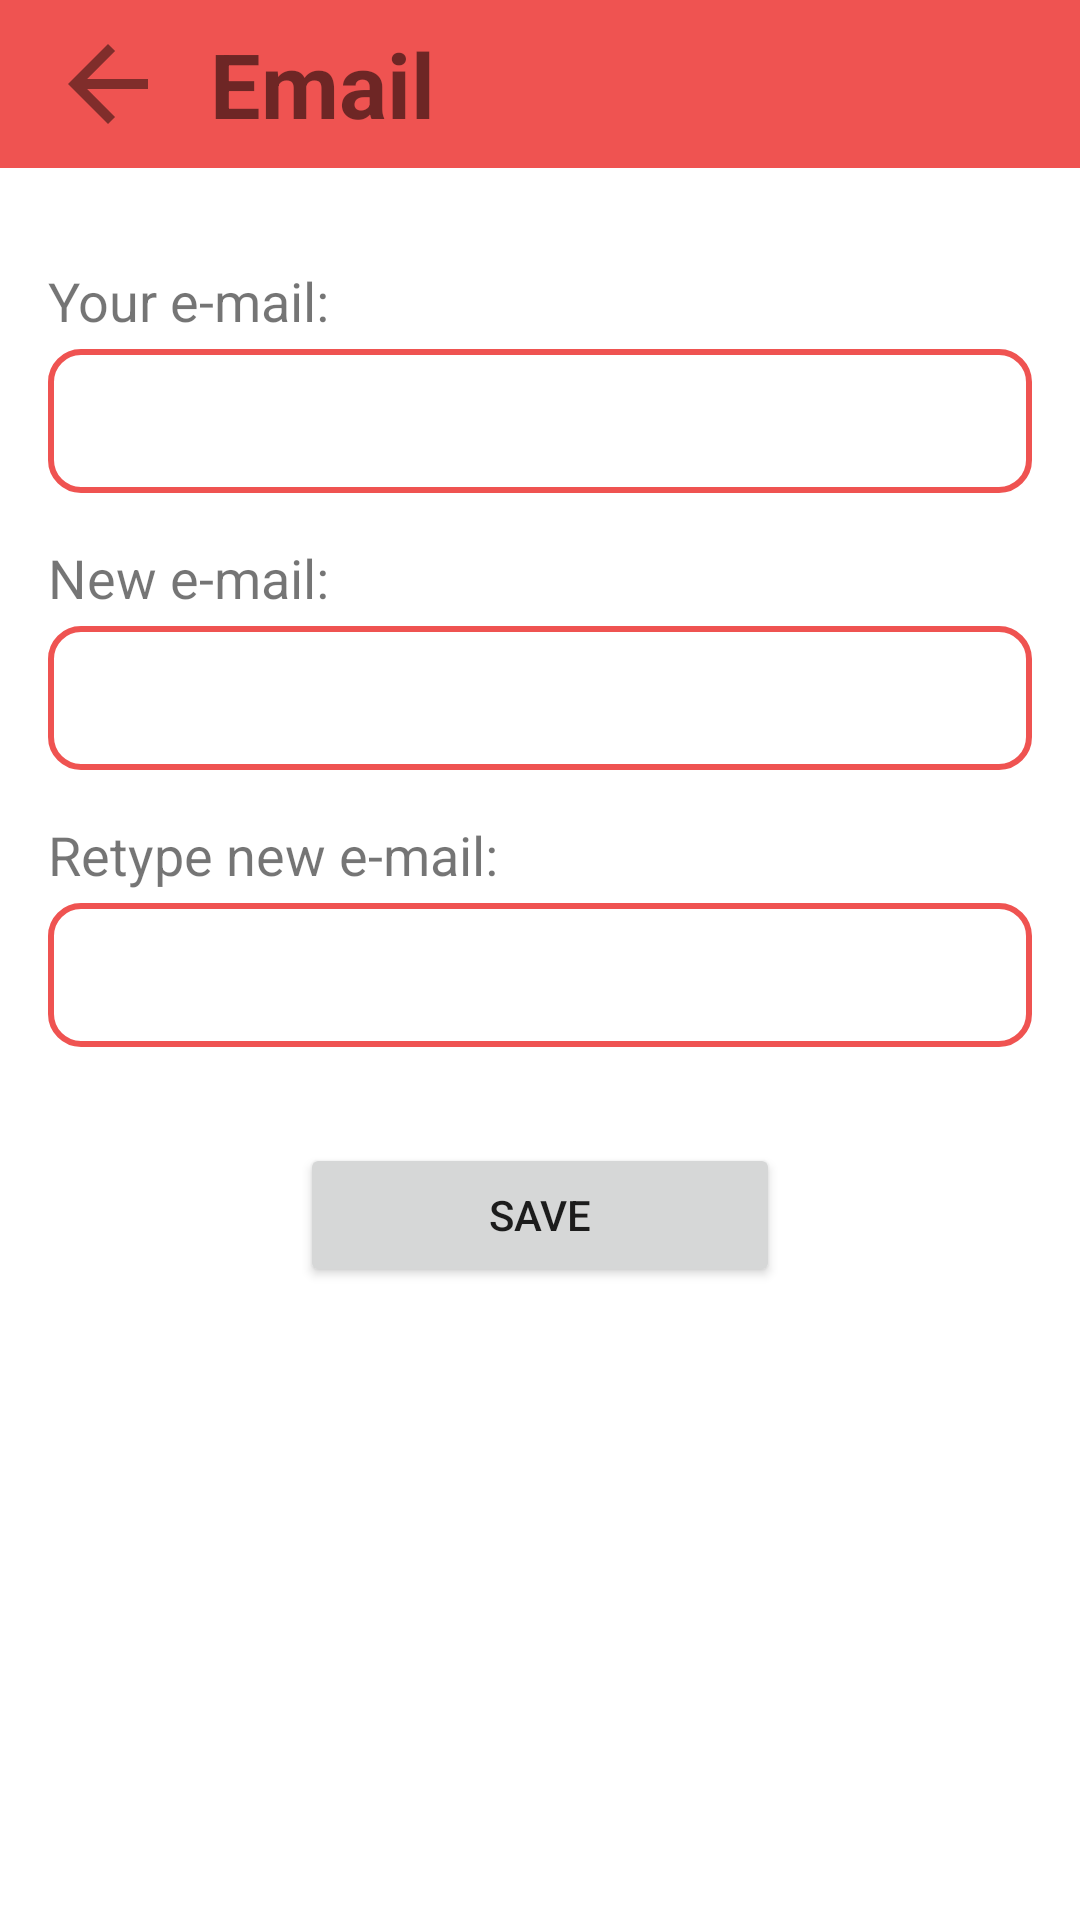

Where to tap for icons on this 1080px x 1920px app screen, as point (x, y):
back arrow: point (108, 84)
